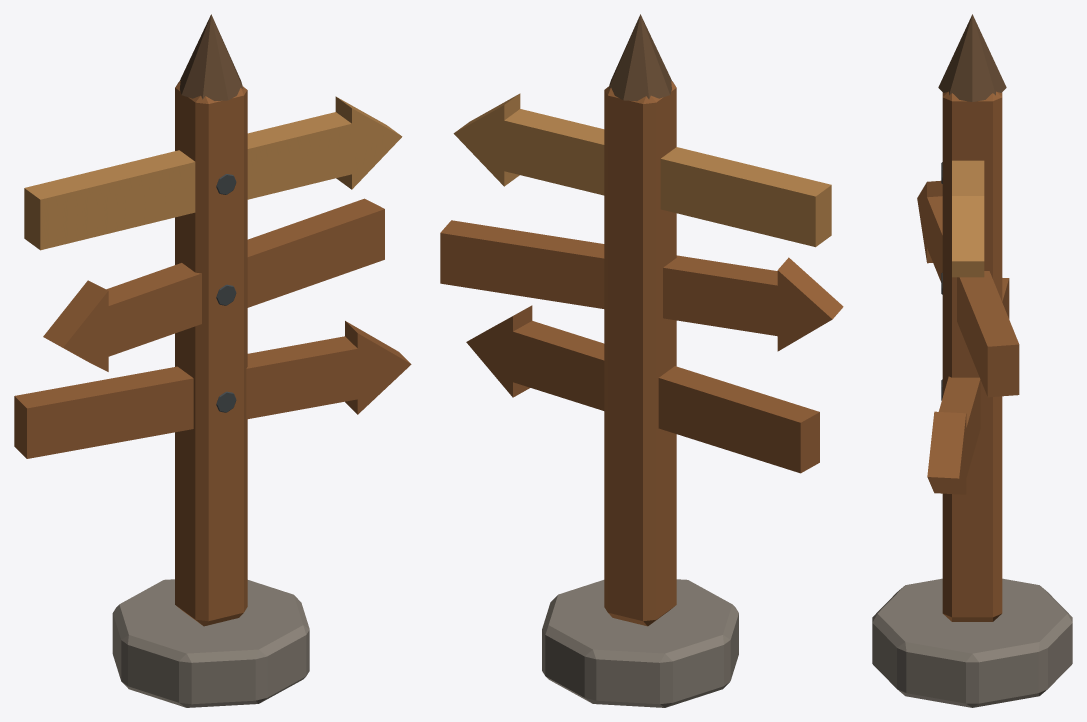
The picture shows the model from 3 angles, left to right: view 1: azimuth 30°, elevation 25°; view 2: azimuth 150°, elevation 25°; view 3: azimuth 270°, elevation 25°; orthographic projection.
Visible parts, largest first — view 1: WK_DirectionalSignpost_LOD2_Compact; view 2: WK_DirectionalSignpost_LOD2_Compact; view 3: WK_DirectionalSignpost_LOD2_Compact.
Part boxes in pixels (<box>): WK_DirectionalSignpost_LOD2_Compact: <box>14,14,411,707</box>; WK_DirectionalSignpost_LOD2_Compact: <box>440,14,843,707</box>; WK_DirectionalSignpost_LOD2_Compact: <box>872,14,1072,707</box>.
Size of the model in its own units: 1.96 by 3.37 by 0.9343.
